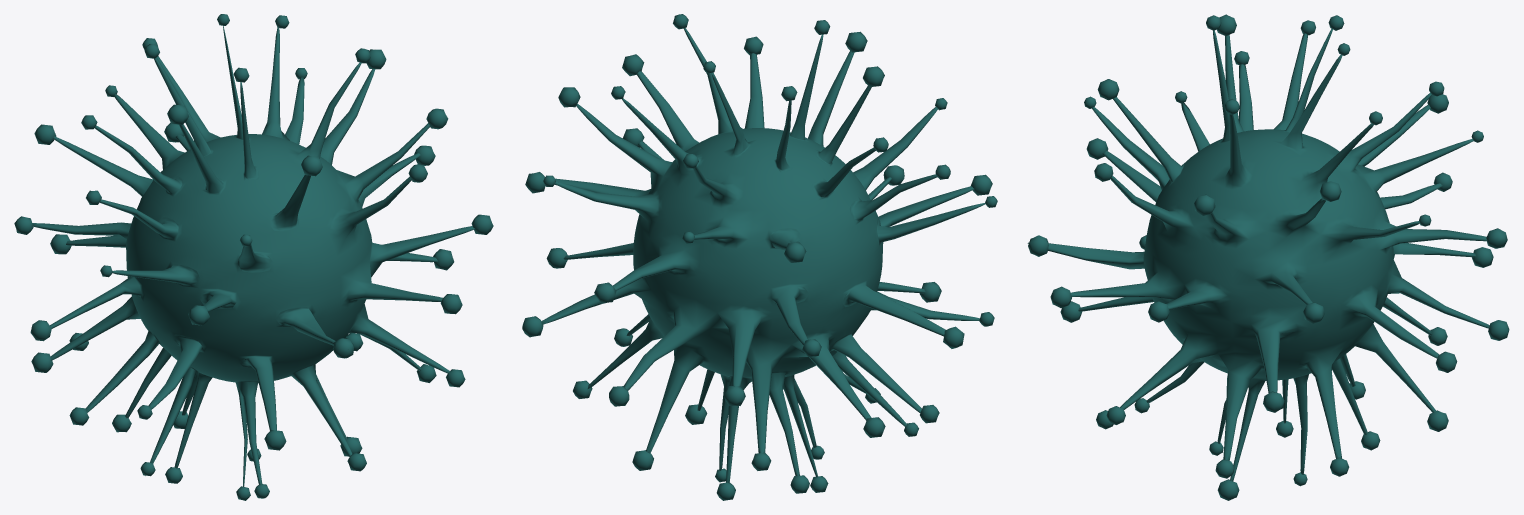
The model's file is Virus Grundmodell.fbx.
3 views of the same model, side by side, from view 1: azimuth 30°, elevation 25°; view 2: azimuth 150°, elevation 25°; view 3: azimuth 270°, elevation 25° (orthographic).
Parts seen in each view (by area): view 1: polySurface57; view 2: polySurface57; view 3: polySurface57.
Boxes of the visible parts, left/top/right/bottom form: polySurface57: left=14, top=14, right=493, bottom=500; polySurface57: left=522, top=14, right=997, bottom=500; polySurface57: left=1027, top=14, right=1509, bottom=500.
Bounding box in the file's own units: 8.02 × 8.06 × 7.98.
